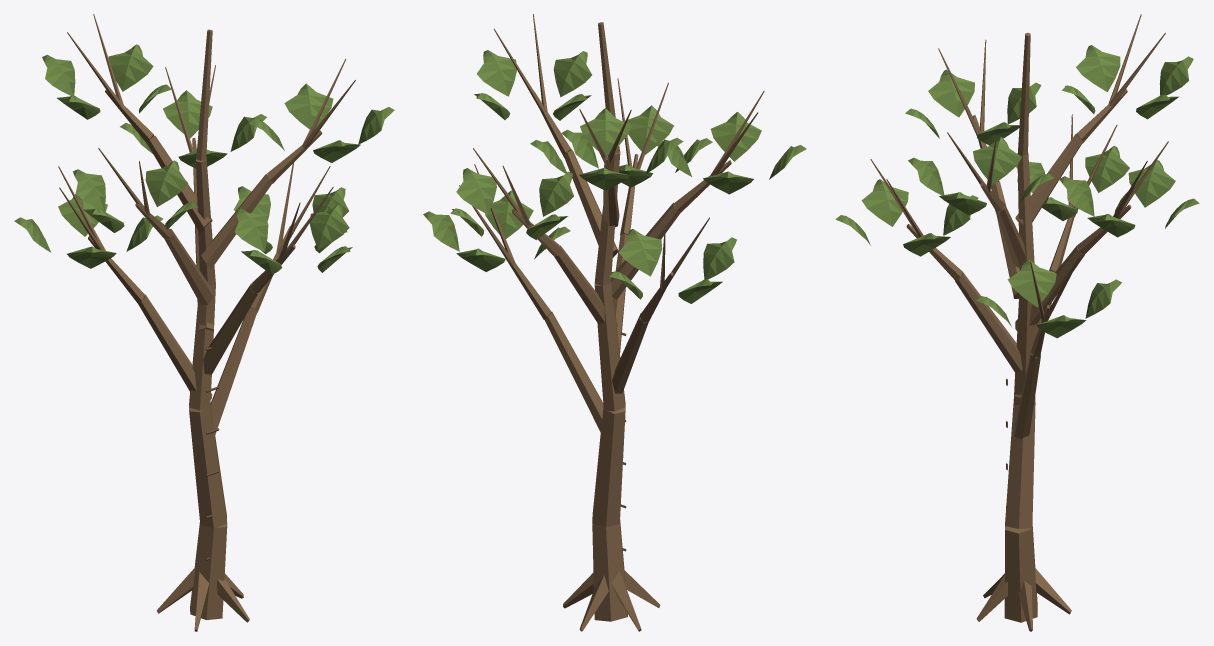
Rendered from apricot_young.glb.
3 views of the same model, side by side, from view 1: azimuth 30°, elevation 25°; view 2: azimuth 150°, elevation 25°; view 3: azimuth 270°, elevation 25° (orthographic). The views are drawn at different scales.
Parts seen in each view (by area): view 1: branches, leaves; view 2: branches, leaves; view 3: branches, leaves.
Boxes of the visible parts, x1,y1,x2,y2 form: branches: [58, 14, 355, 631]; leaves: [14, 44, 394, 274]; branches: [459, 14, 764, 631]; leaves: [423, 50, 806, 303]; branches: [870, 14, 1168, 631]; leaves: [835, 45, 1199, 338].
Bounding box in the file's own units: 0.905 × 1.6 × 0.905.
